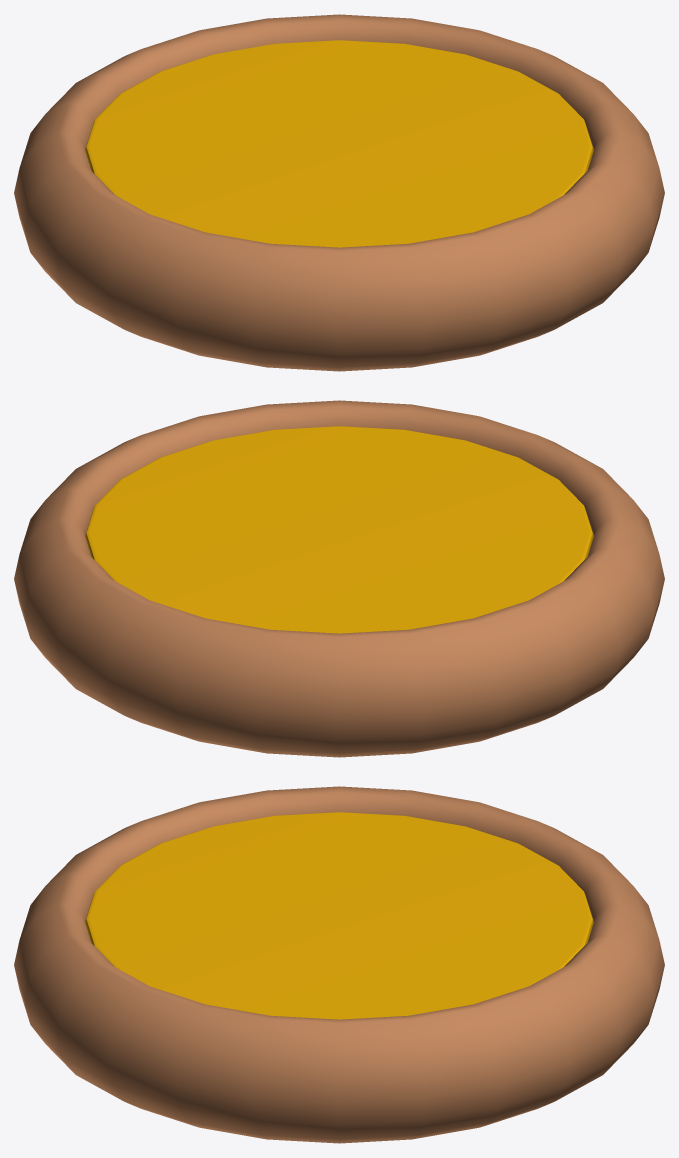
File: Pizza.fbx
3 views of the same model, one above another, from view 1: azimuth 30°, elevation 25°; view 2: azimuth 150°, elevation 25°; view 3: azimuth 270°, elevation 25° (orthographic).
Visible parts, largest first — view 1: Pizza1; view 2: Pizza1; view 3: Pizza1.
Boxes of the visible parts, left/top/right/bottom form: Pizza1: left=14, top=14, right=664, bottom=371; Pizza1: left=14, top=400, right=664, bottom=757; Pizza1: left=14, top=786, right=664, bottom=1143.
Size of the model in its own units: 2 by 0.4217 by 2.
